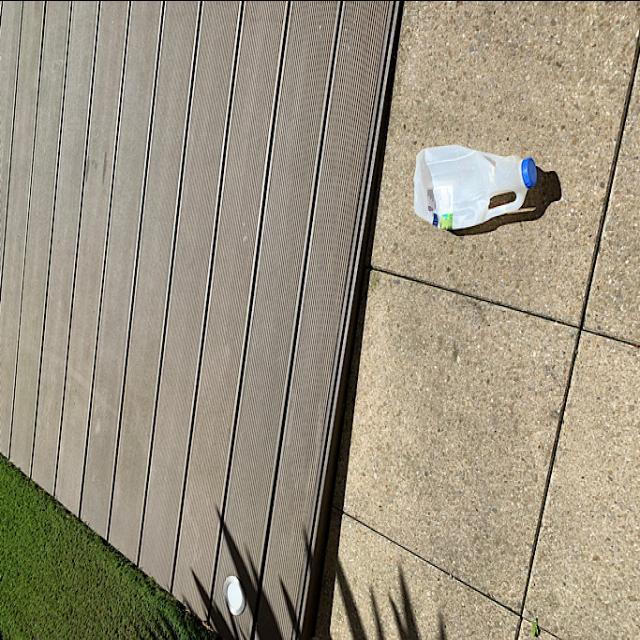litter: (404, 125, 552, 237)
